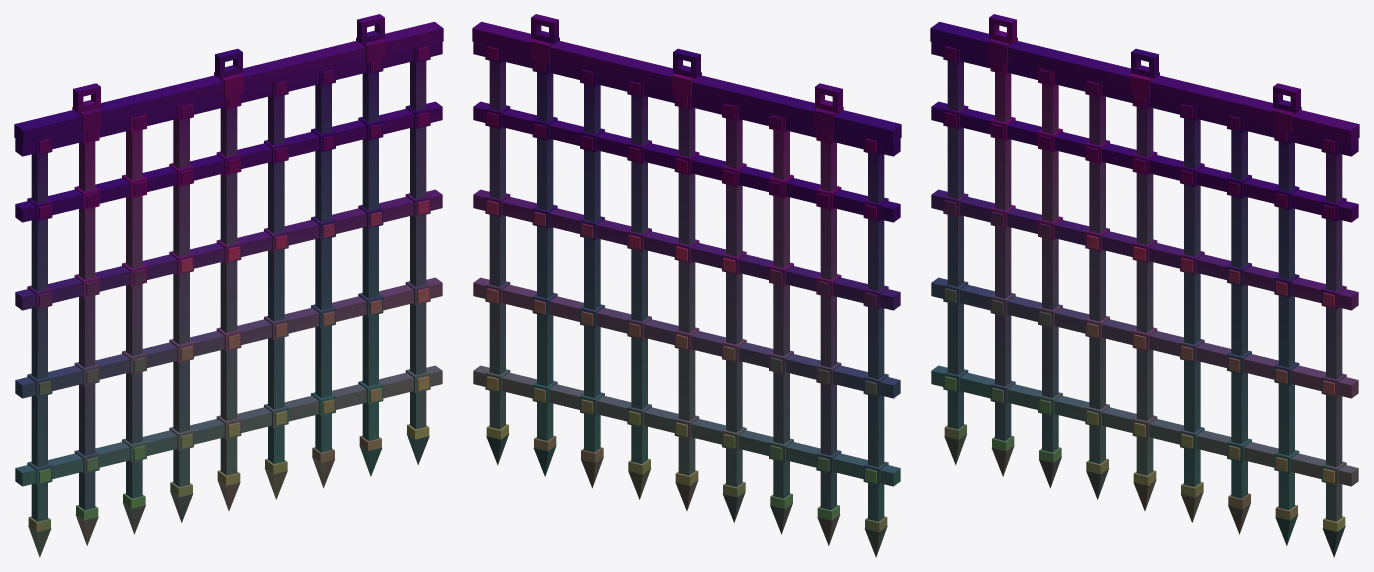
Rendered from portcullis_4m.glb.
3 views of the same model, side by side, from view 1: azimuth 30°, elevation 25°; view 2: azimuth 150°, elevation 25°; view 3: azimuth 330°, elevation 25° (orthographic).
Parts seen in each view (by area): view 1: grate, grate_bosses; view 2: grate, grate_bosses; view 3: grate, grate_bosses.
Boxes of the visible parts, x1,y1,x2,y2 form: grate: (14, 14, 443, 521); grate_bosses: (28, 37, 429, 531); grate: (472, 14, 901, 521); grate_bosses: (486, 37, 887, 531); grate: (930, 14, 1359, 521); grate_bosses: (944, 37, 1345, 531).
Size of the model in its own units: 4 by 4.17 by 0.184.
